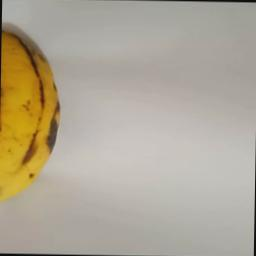Banana Unripe: (0, 17, 65, 210)
